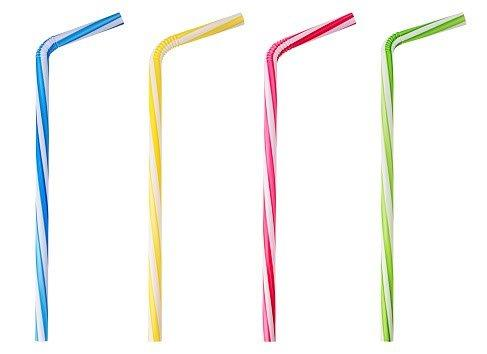sedotan: (149, 16, 243, 341), (264, 17, 354, 340), (37, 14, 124, 341), (383, 13, 466, 341)
